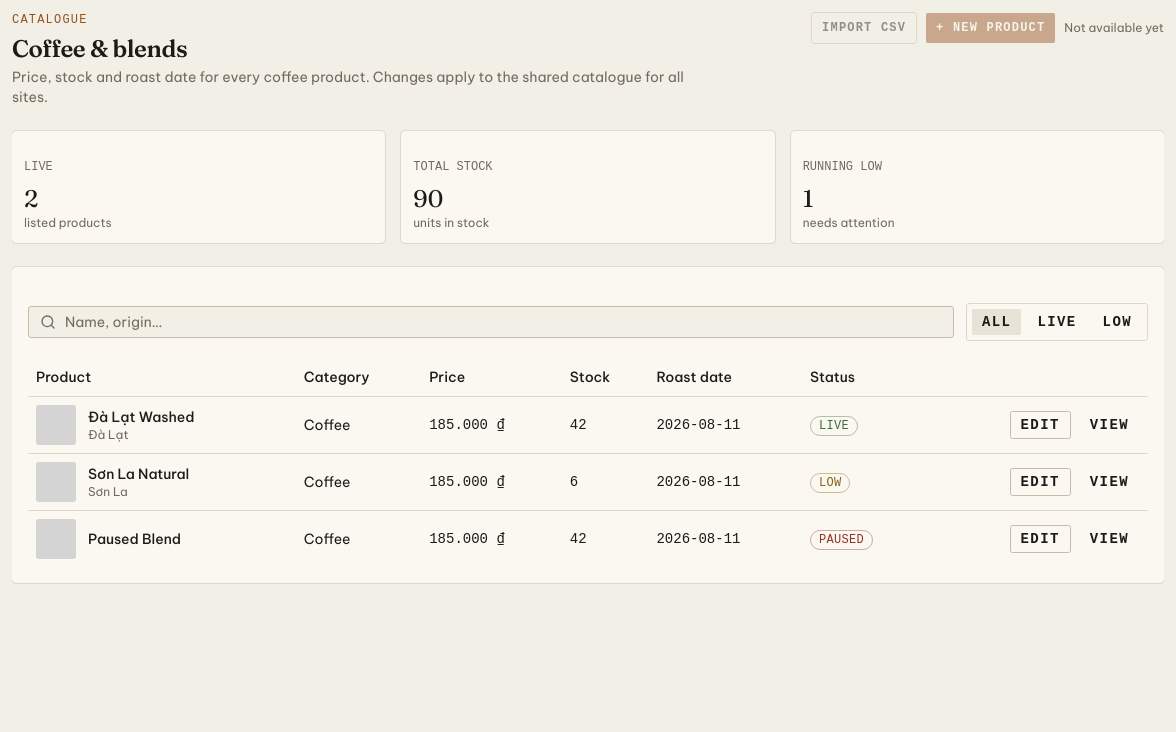
Test case: ProductsBrowser › filters by search text and by low status
This screenshot has width=1176, height=732.
Type "sơn" into the field named "Search catalogue" at [491, 322], box top-left (28, 306), bottom-right (954, 338)
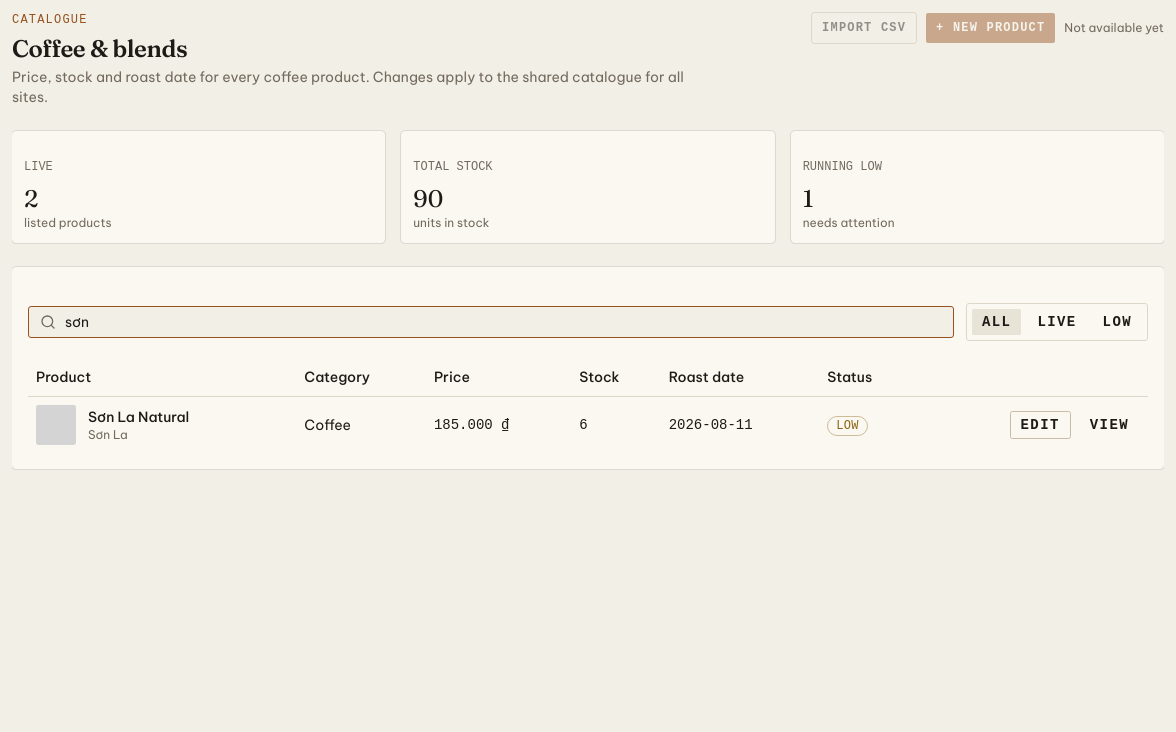
Expected: the text "Sơn La Natural" is shown, top-left (88, 407), bottom-right (189, 427)
Result: the text "Đà Lạt Washed" is gone
Clear the field named "Search catalogue" at [491, 322], box top-left (28, 306), bottom-right (954, 338)
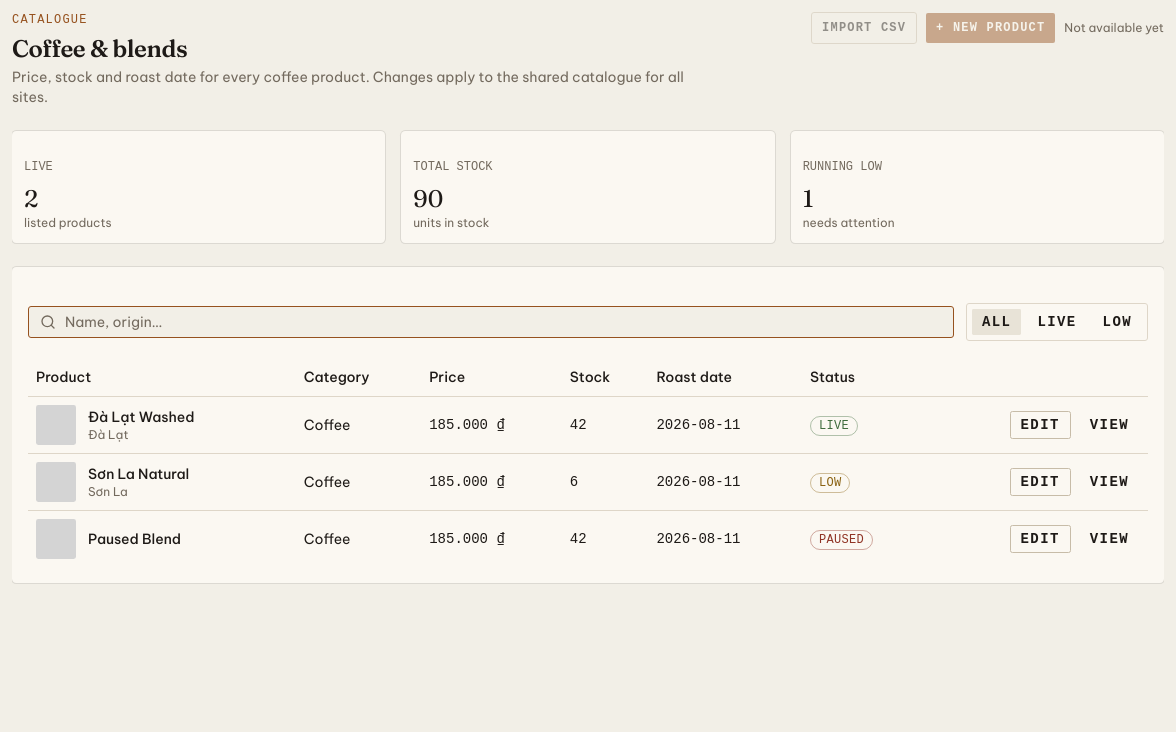
Click the button "Low" at [1117, 322], box top-left (1092, 308), bottom-right (1143, 336)
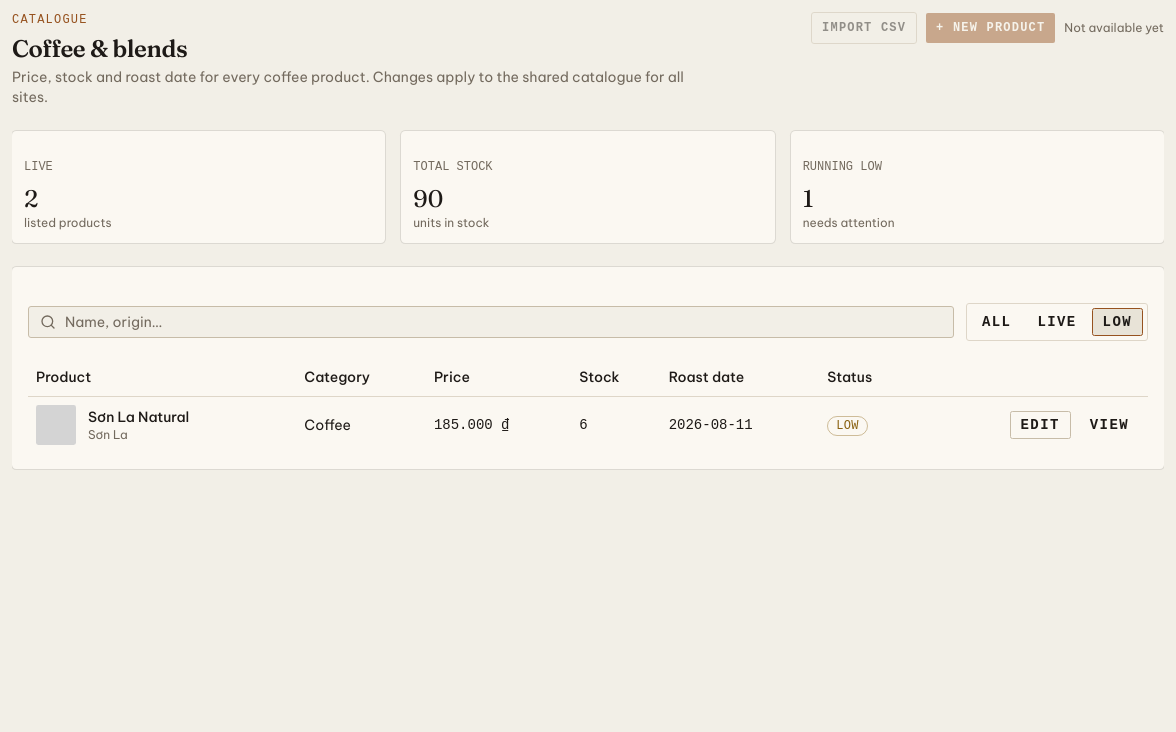
Expected: the text "Sơn La Natural" is shown, top-left (88, 407), bottom-right (189, 427)
Result: the text "Đà Lạt Washed" is gone
